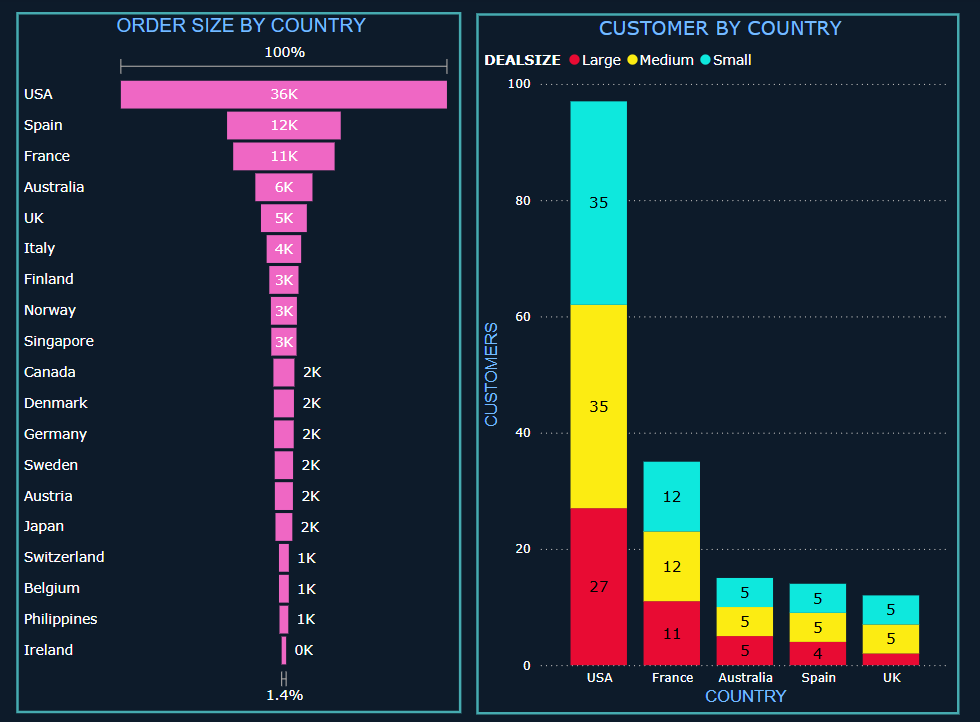

What the dashboard file says about the page in this screenshot:
{"tool":"powerbi","page":{"name":"Page 3","canvas":[1280,720],"ordinal":2},"visuals":[{"type":"funnel","title":"ORDER SIZE BY COUNTRY","fields":{"Category":["sales_data_sample.COUNTRY"],"Y":["Sum(sales_data_sample.QUANTITYORDERED)"]},"box":[15.7,14.5,429.5,676.8],"z":0},{"type":"columnChart","title":"CUSTOMER BY COUNTRY","fields":{"Y":["Count(sales_data_sample.CUSTOMERNAME)"],"Category":["sales_data_sample.COUNTRY"],"Series":["sales_data_sample.DEALSIZE"]},"box":[459.7,15.1,466.6,676.5],"z":1}]}

Visuals, with their boxes on the page's 1280x720 design canvas (x1, y1, x2, y2). These are canvas units, not pixel positions in the 980x722 screenshot, which may show the page scaled, cropped or inside an application window:
"ORDER SIZE BY COUNTRY" funnel: <box>16,14,445,691</box>
"CUSTOMER BY COUNTRY" columnChart: <box>460,15,926,692</box>
